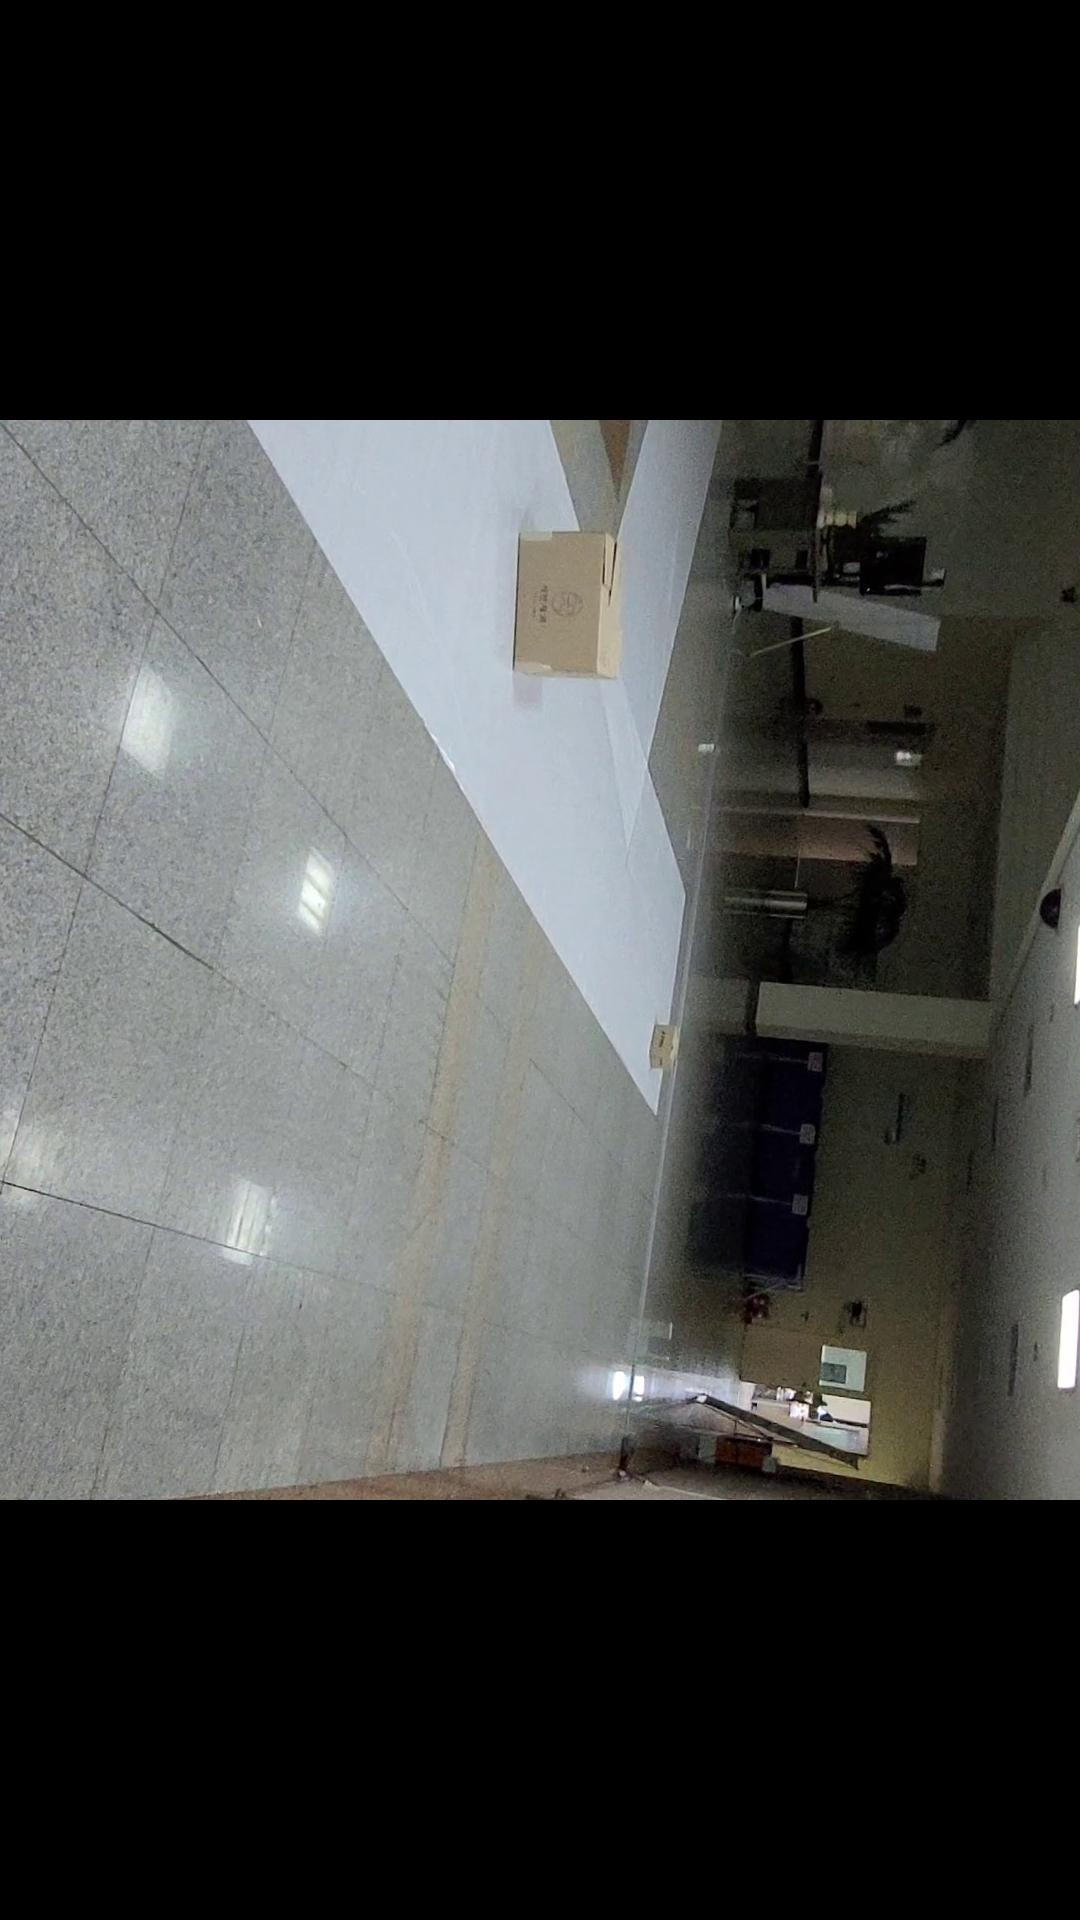Box: (477, 516, 642, 740), (625, 992, 712, 1110)
